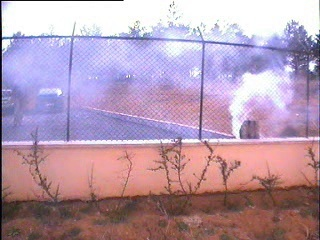smoke: (140, 23, 292, 136)
